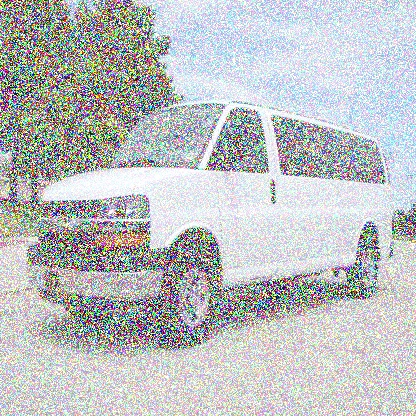Vehicle: (29, 103, 393, 345)
